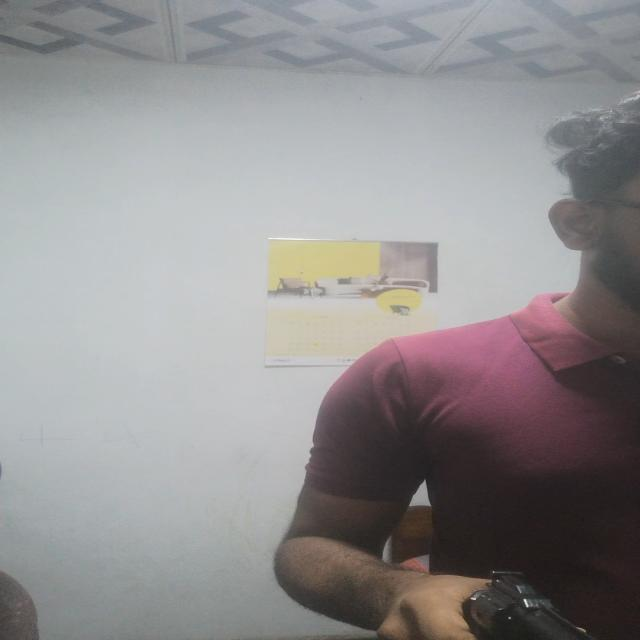Gun_Holder: (398, 559, 640, 640)
Person: (286, 101, 640, 640)
